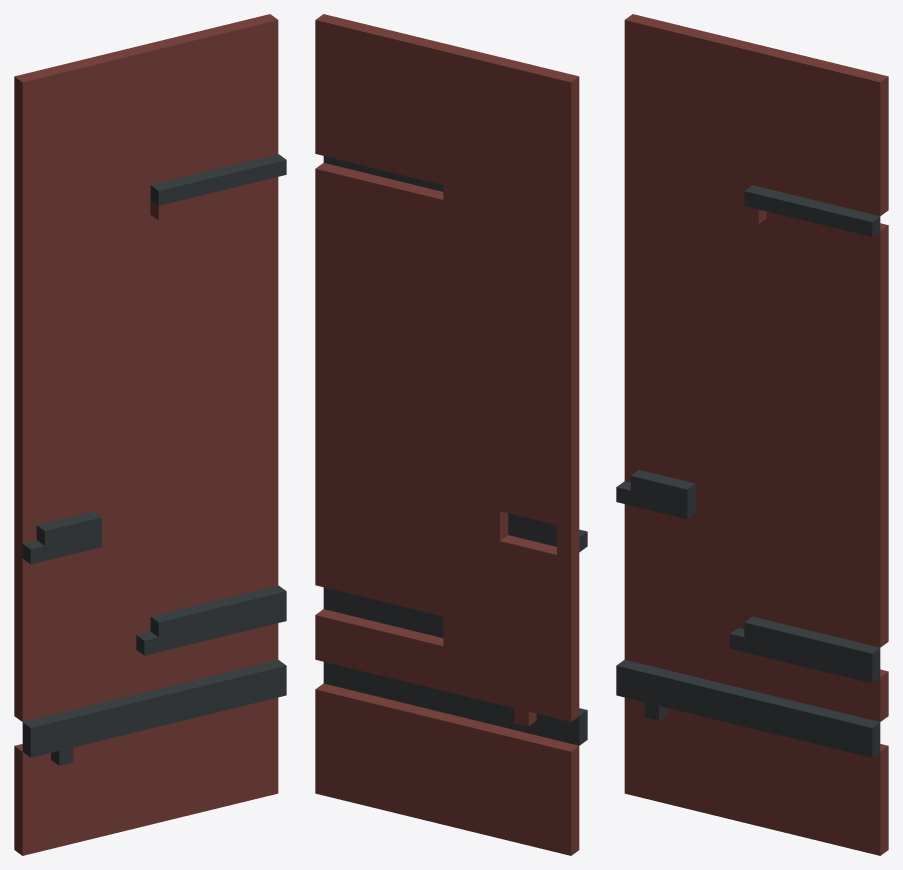
File: horse_box_door.glb
3 renders of one model, left to right at view 1: azimuth 30°, elevation 25°; view 2: azimuth 150°, elevation 25°; view 3: azimuth 330°, elevation 25°, orthographic.
Parts seen in each view (by area): view 1: body:compound; view 2: body:compound; view 3: body:compound.
Boxes of the visible parts, box(x1,y1,x2,y2) form: body:compound: box(14, 14, 286, 855); body:compound: box(315, 14, 587, 855); body:compound: box(616, 14, 888, 855).
Size of the model in its own units: 0.5625 by 1.62 by 0.0625.
